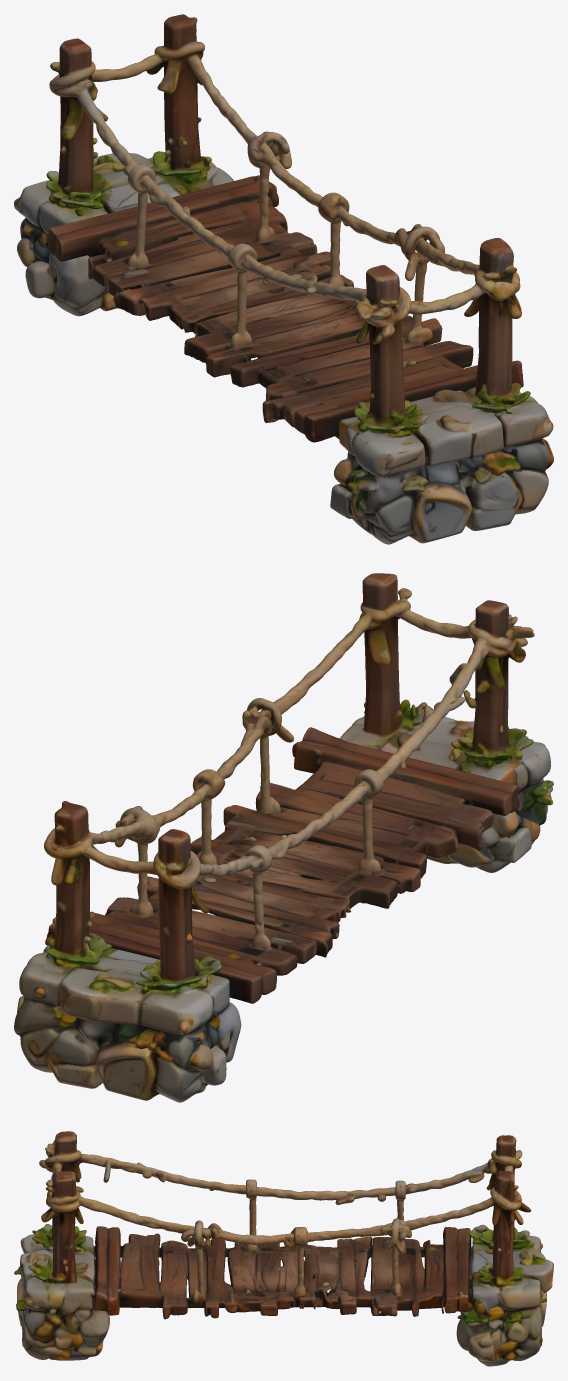
Rendered from rope-bridge.glb.
The picture shows the model from 3 angles, top to bottom: view 1: azimuth 30°, elevation 25°; view 2: azimuth 150°, elevation 25°; view 3: azimuth 270°, elevation 25°; orthographic projection. The views are drawn at different scales.
Parts seen in each view (by area): view 1: tripo_node_dae8f4c3-fe12-4394-b43f-7b783482f8e8; view 2: tripo_node_dae8f4c3-fe12-4394-b43f-7b783482f8e8; view 3: tripo_node_dae8f4c3-fe12-4394-b43f-7b783482f8e8.
Boxes of the visible parts, x1=… form: tripo_node_dae8f4c3-fe12-4394-b43f-7b783482f8e8: x1=14, y1=14, x2=553, y2=544; tripo_node_dae8f4c3-fe12-4394-b43f-7b783482f8e8: x1=14, y1=573, x2=553, y2=1102; tripo_node_dae8f4c3-fe12-4394-b43f-7b783482f8e8: x1=14, y1=1131, x2=553, y2=1366.
Size of the model in its own units: 0.3313 by 0.3894 by 1.
Materials: 1 (1 with a texture image).
